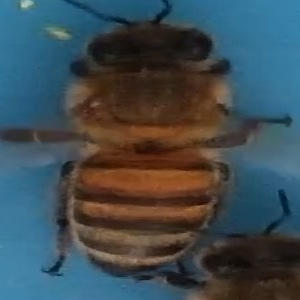bee: (47, 5, 278, 293), (193, 229, 298, 299)
